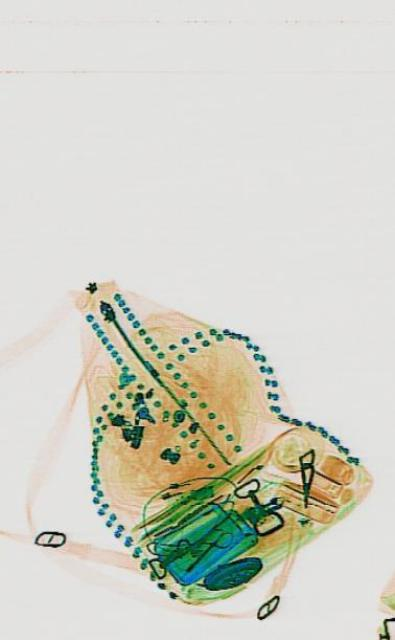Scissors: (181, 514, 234, 582)
